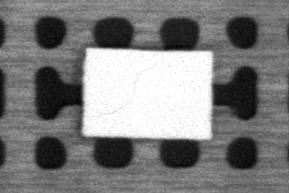DIE_CRACK: (105, 60, 155, 114)
